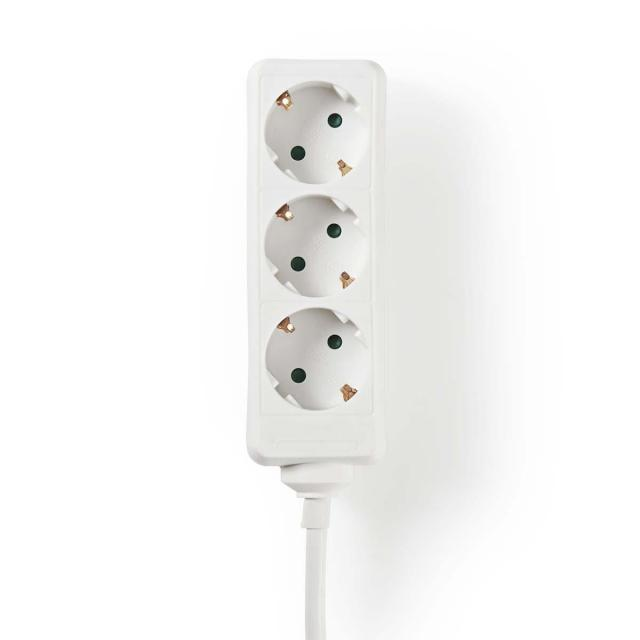typeb: (209, 38, 405, 492)
